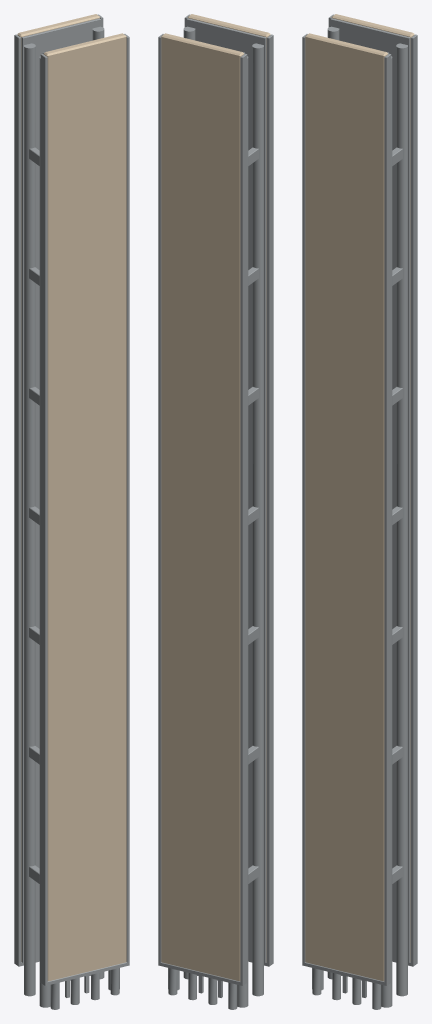
File: mexico-city-estela-de-luz.glb
The picture shows the model from 3 angles, left to right: view 1: azimuth 30°, elevation 25°; view 2: azimuth 150°, elevation 25°; view 3: azimuth 330°, elevation 25°; orthographic projection.
Visible parts, largest first — view 1: Estela de Luz; view 2: Estela de Luz; view 3: Estela de Luz.
Part boxes in pixels (<box>): Estela de Luz: <box>14,14,129,1009</box>; Estela de Luz: <box>158,14,273,1009</box>; Estela de Luz: <box>302,14,417,1009</box>.
Bounding box in the file's own units: 9.62 × 104 × 6.1.
